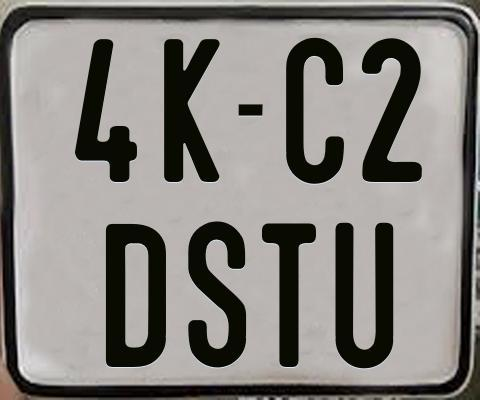2: (362, 38, 426, 185)
4: (72, 39, 140, 187)
C: (283, 35, 345, 181)
D: (106, 224, 169, 367)
K: (164, 37, 225, 183)
S: (186, 221, 248, 371)
T: (262, 222, 321, 367)
U: (335, 222, 397, 368)
